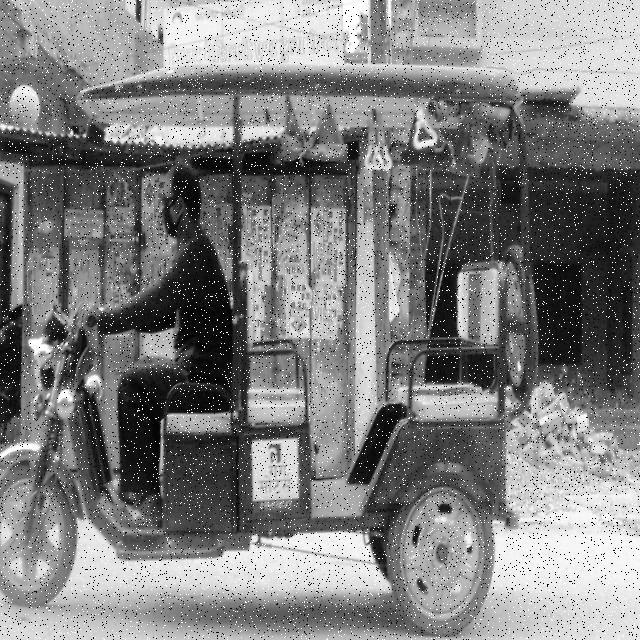Toto: (0, 51, 532, 631)
